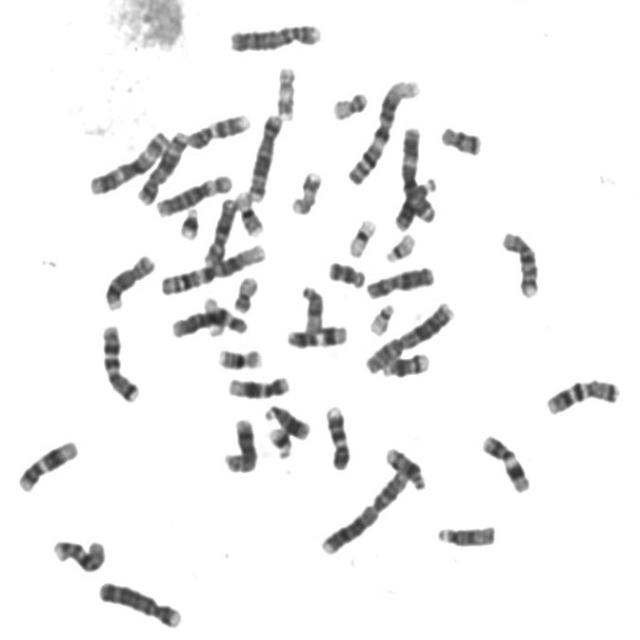A1: (345, 73, 424, 186), (156, 236, 269, 296)
A2: (317, 462, 413, 558), (361, 295, 458, 376)
A3: (86, 125, 172, 197), (398, 121, 439, 223)
B4: (94, 574, 185, 630), (225, 17, 325, 54)
B5: (132, 125, 190, 205), (244, 106, 286, 202)
C10: (497, 224, 543, 300), (48, 531, 108, 575)
C11: (478, 428, 534, 495), (283, 319, 350, 351)
C12: (13, 433, 82, 494), (224, 370, 293, 400)
C6: (152, 168, 235, 217), (168, 303, 252, 340)
C7: (97, 318, 143, 404), (542, 372, 624, 416)
C8: (101, 248, 158, 312), (220, 412, 262, 474)
C9: (185, 107, 252, 151), (321, 399, 353, 472)
D13: (391, 172, 440, 232), (261, 398, 312, 442)
D14: (381, 441, 429, 492), (378, 347, 433, 379)
D15: (432, 518, 500, 549), (297, 279, 327, 335)
E16: (232, 186, 266, 237), (213, 342, 266, 371)
E17: (288, 165, 324, 216), (272, 59, 299, 123)
E18: (436, 120, 486, 158), (324, 254, 368, 290)
F19: (345, 212, 380, 259), (197, 289, 227, 341)
F20: (328, 85, 372, 122), (229, 270, 262, 314)
G21: (265, 422, 295, 461), (175, 200, 203, 240)
G22: (382, 227, 418, 263), (366, 297, 398, 337)
X: (200, 191, 241, 267), (362, 259, 438, 300)
